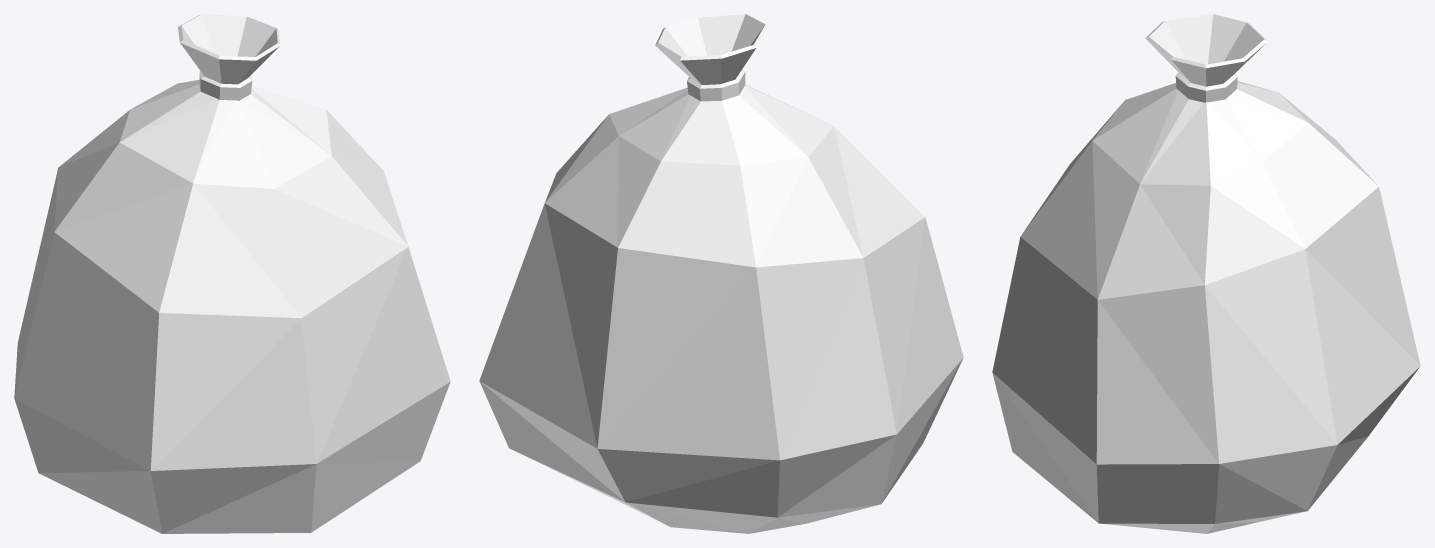
Rendered from Prop_Trash_Bag_01.glb.
3 renders of one model, left to right at view 1: azimuth 30°, elevation 25°; view 2: azimuth 150°, elevation 25°; view 3: azimuth 270°, elevation 25°, orthographic. The views are drawn at different scales.
Parts seen in each view (by area): view 1: Prop_Trash Bag_01; view 2: Prop_Trash Bag_01; view 3: Prop_Trash Bag_01.
Part boxes in pixels (left/top/right/bottom): Prop_Trash Bag_01: left=14, top=14, right=450, bottom=533; Prop_Trash Bag_01: left=479, top=14, right=963, bottom=533; Prop_Trash Bag_01: left=992, top=14, right=1420, bottom=533.
Size of the model in its own units: 0.5927 by 0.653 by 0.5613.
1 material, 1 textured.
